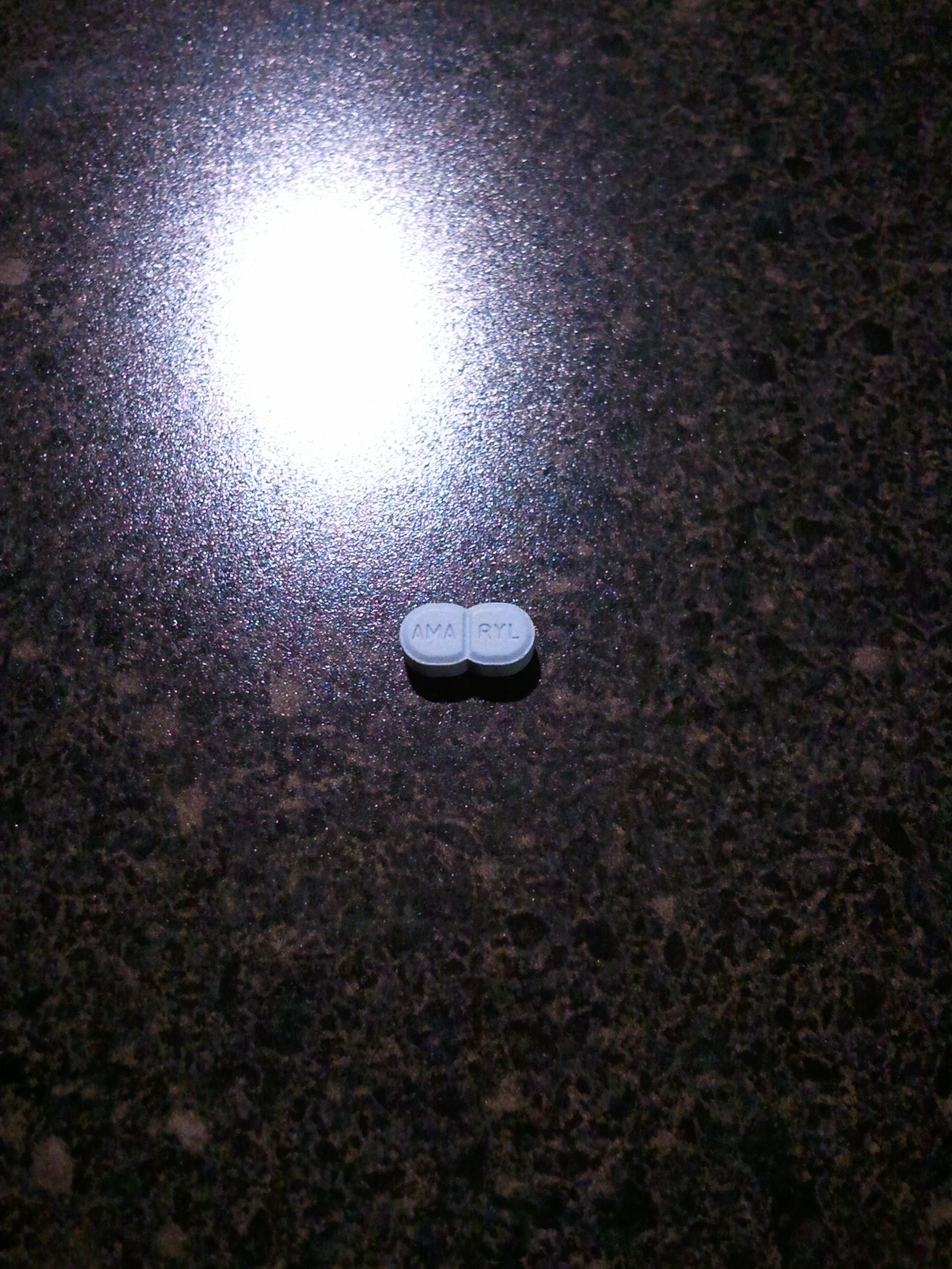Pill: (372, 570, 567, 708)
